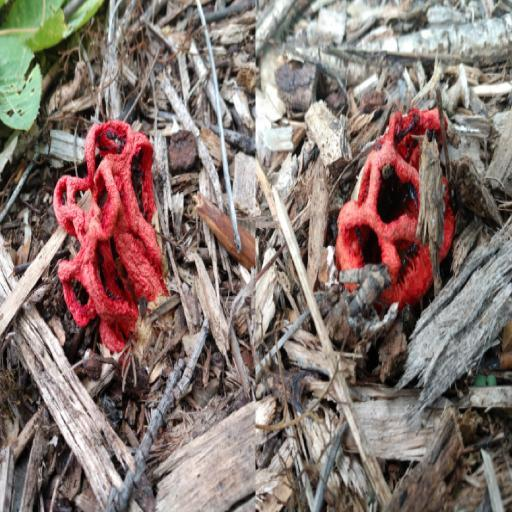mushroom: (53, 115, 170, 348), (333, 107, 459, 303)
